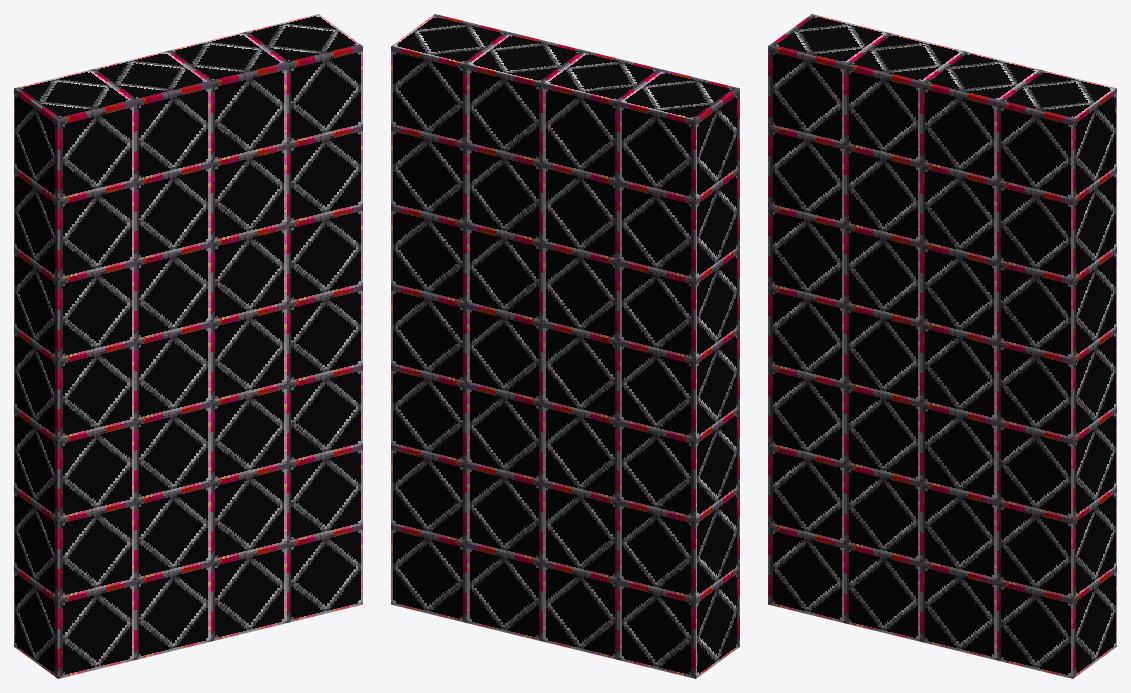
Rendered from cv_shutter.glb.
3 views of the same model, side by side, from view 1: azimuth 30°, elevation 25°; view 2: azimuth 150°, elevation 25°; view 3: azimuth 330°, elevation 25° (orthographic).
Visible parts, largest first — view 1: cv_shutter; view 2: cv_shutter; view 3: cv_shutter.
Part boxes in pixels (<box>): cv_shutter: <box>14,14,362,678</box>; cv_shutter: <box>391,14,739,678</box>; cv_shutter: <box>768,14,1116,678</box>.
Bounding box in the file's own units: 50 × 87.5 × 12.5.
Materials: 1 (1 with a texture image).
